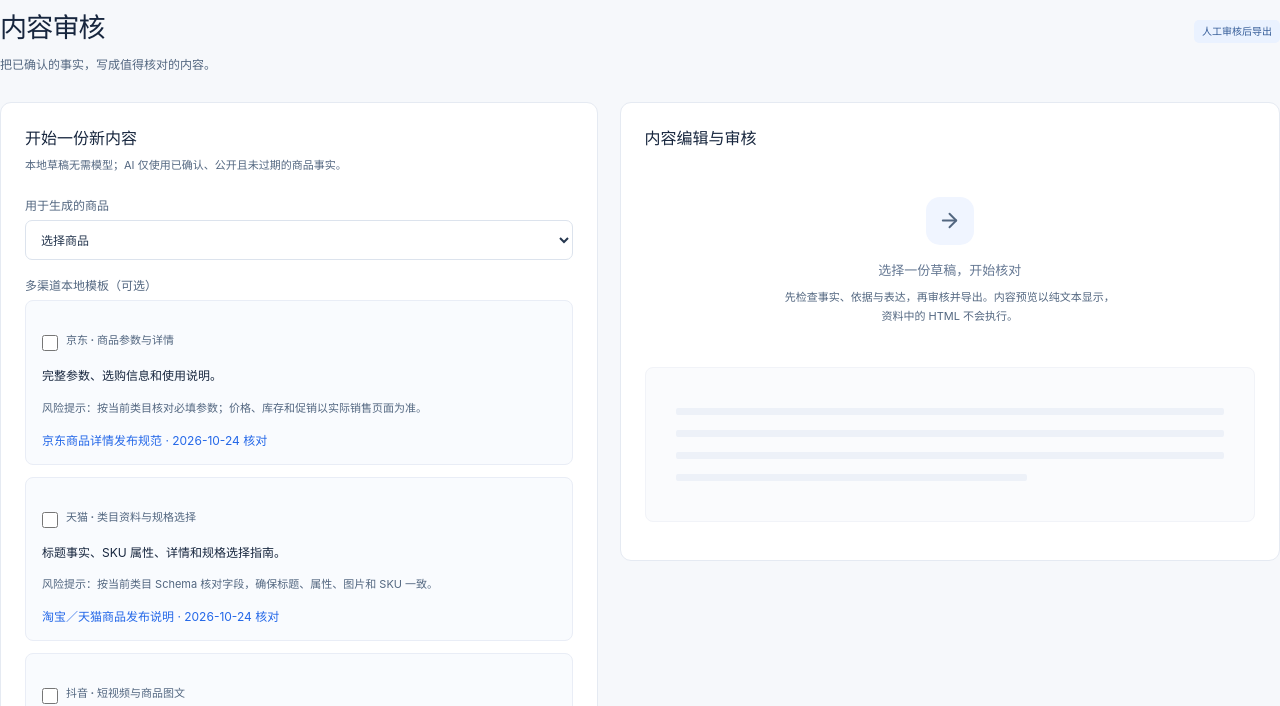
recovers a committed draft by refreshing without generating a second draft
Select "晴山水杯" in the dropdown labelled "用于生成的商品" at (299, 240), box [25,220,572,260]
(page scrolled)
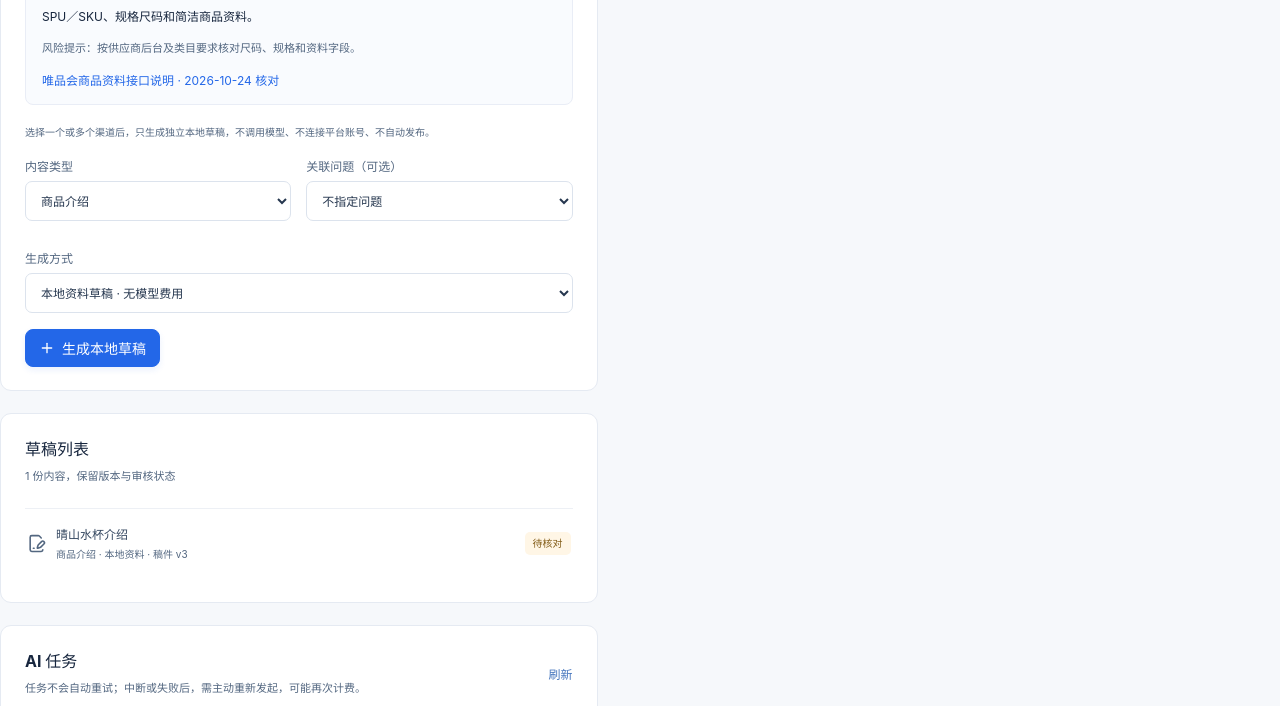
Click the button "生成本地草稿".
click(92, 348)  # box [25,329,160,367]
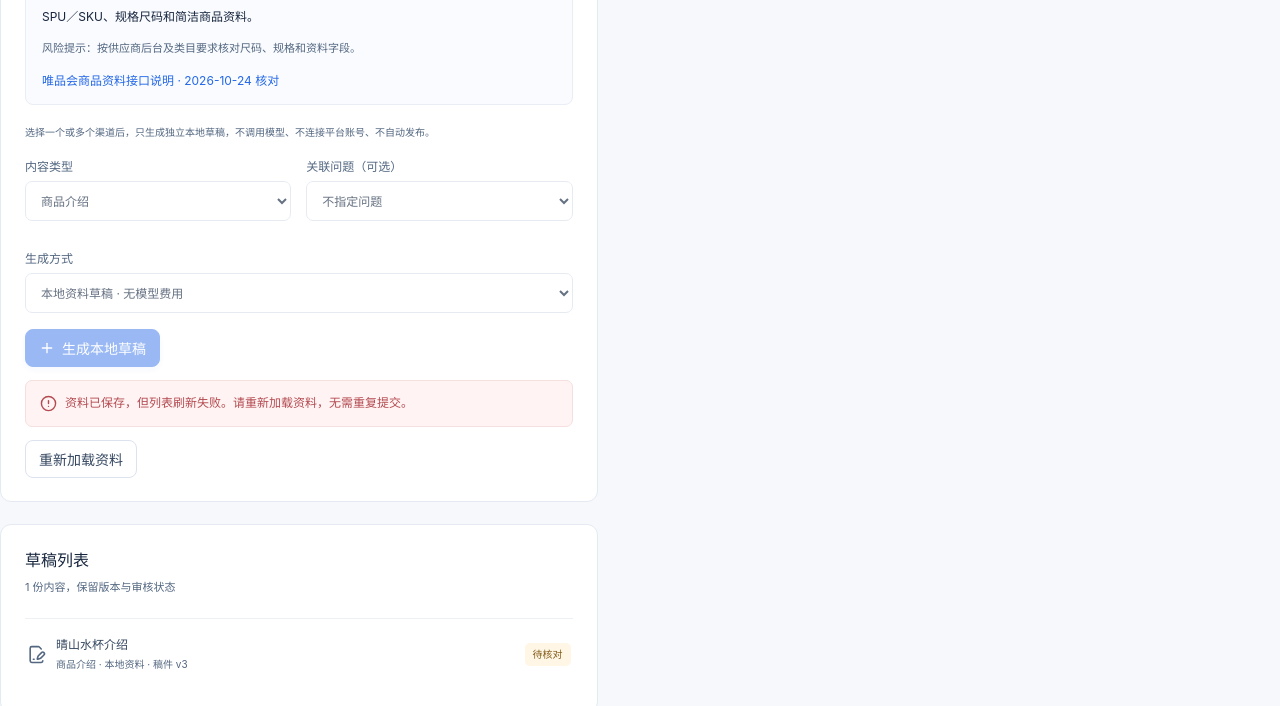
Expected: the message shows "已保存", [25,380,572,427]
Expected: the button "生成本地草稿" is disabled, [25,329,160,367]
Click the button "重新加载资料".
click(81, 458)  # box [25,440,137,478]
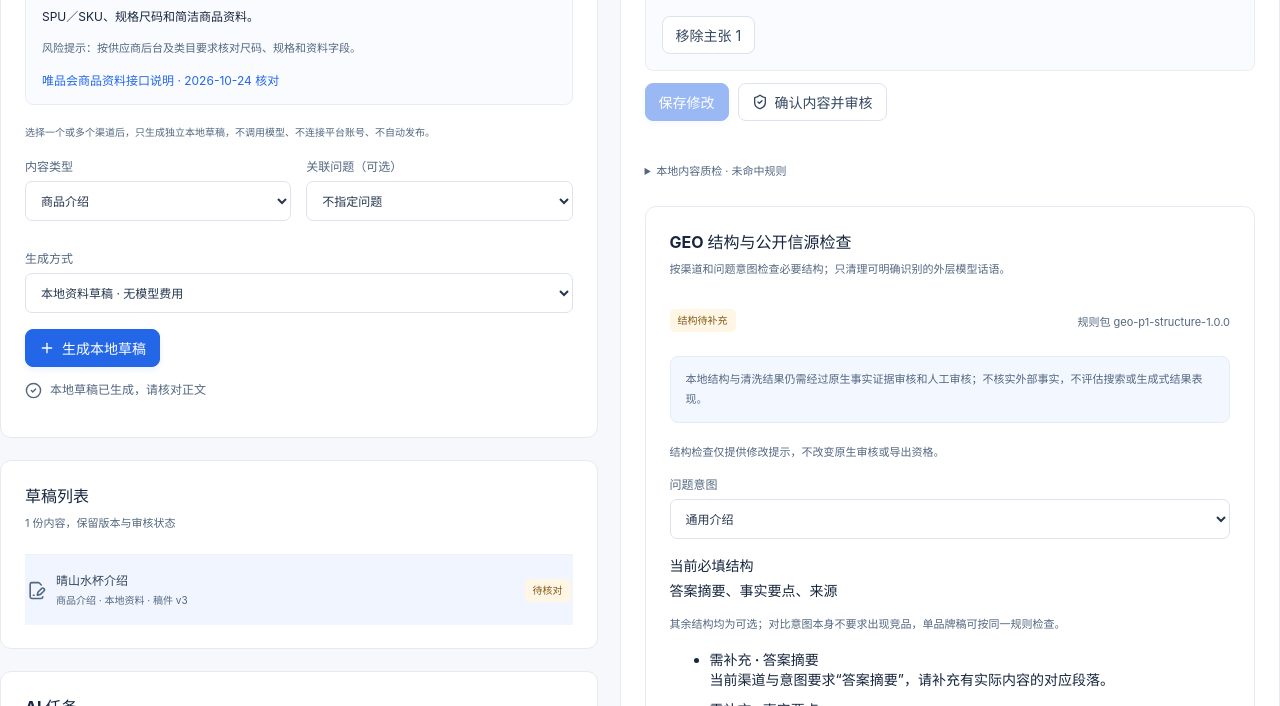
Expected: the button "生成本地草稿" is enabled, [25,329,160,367]
